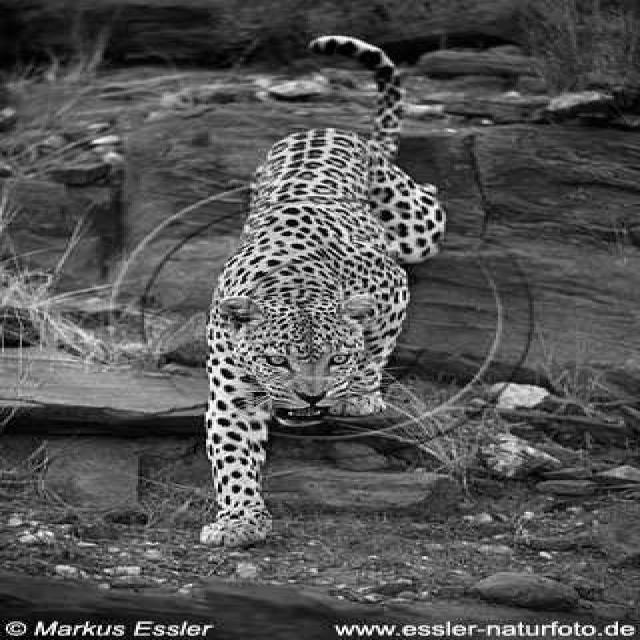Leopard: (118, 31, 452, 550)
